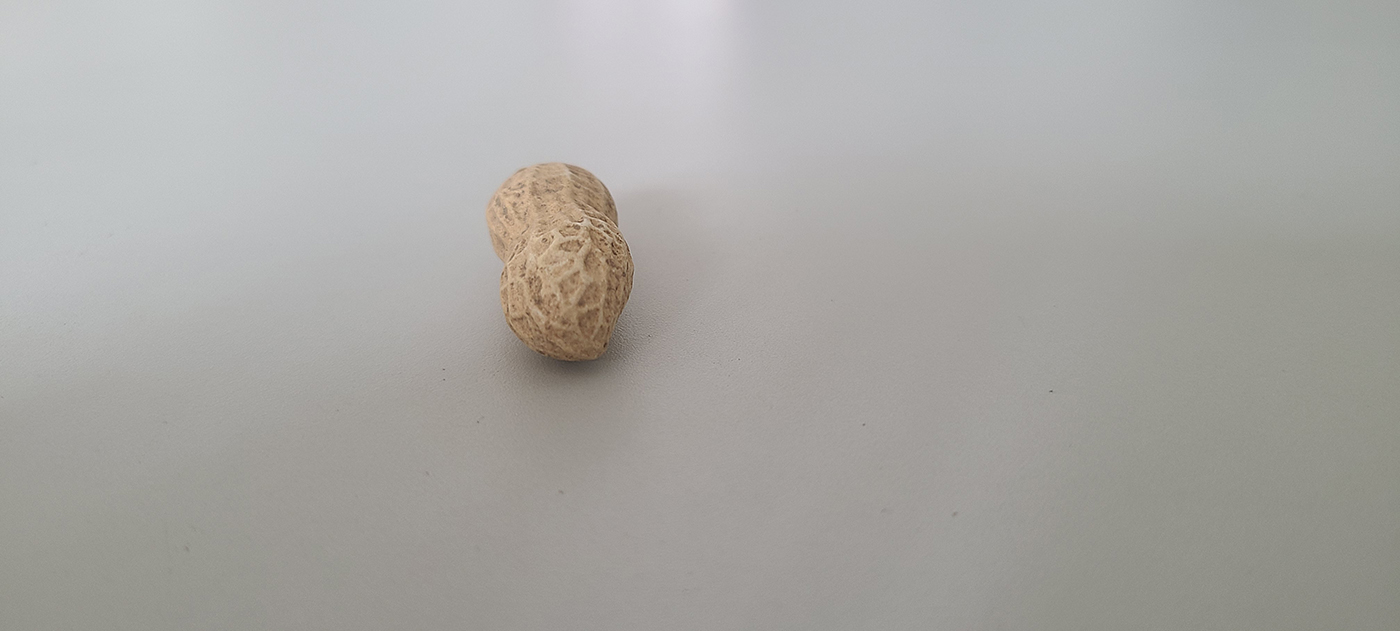h: (485, 159, 634, 362)
